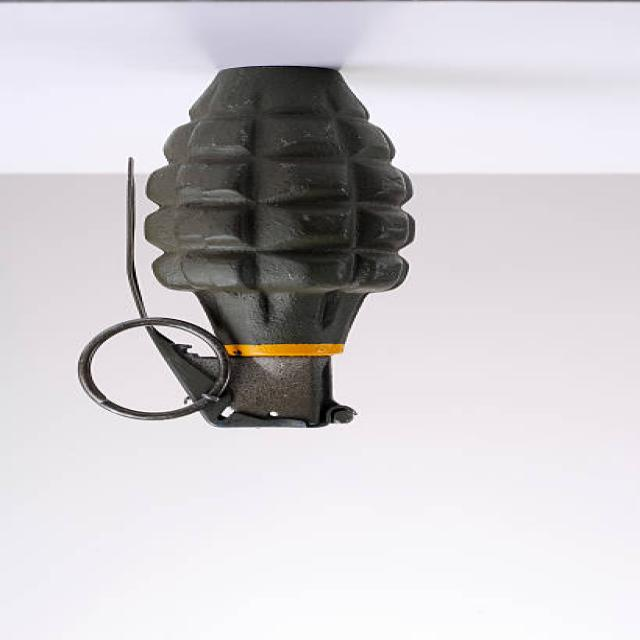grenade: (79, 58, 428, 446)
